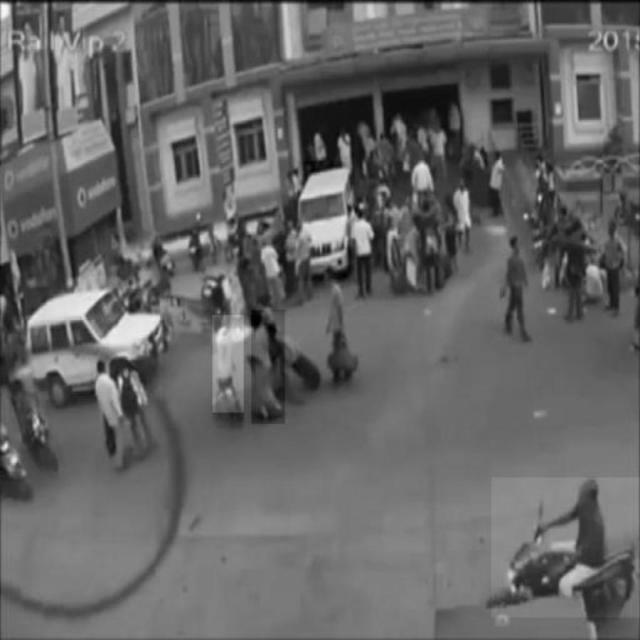person: (90, 362, 130, 466), (251, 311, 285, 424), (213, 315, 243, 413)
vehicle: (491, 478, 639, 618), (25, 290, 163, 400), (298, 162, 355, 282)
